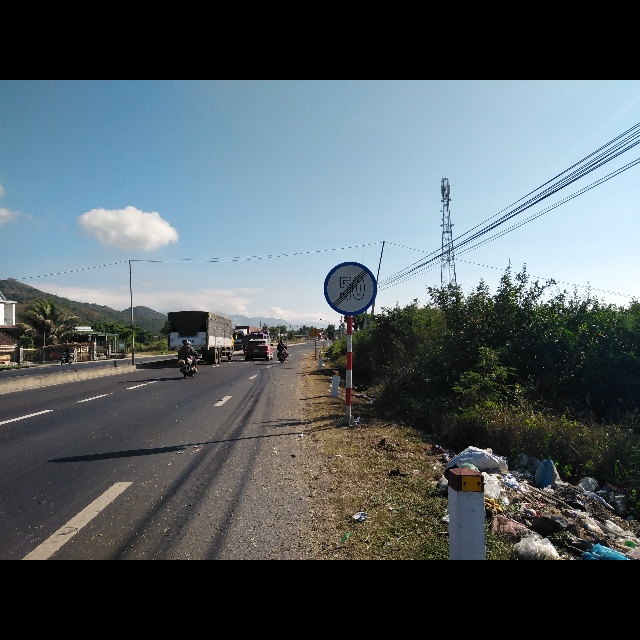Hết hạn chế tốc độ tối đa 50km/h: (320, 258, 378, 318)
